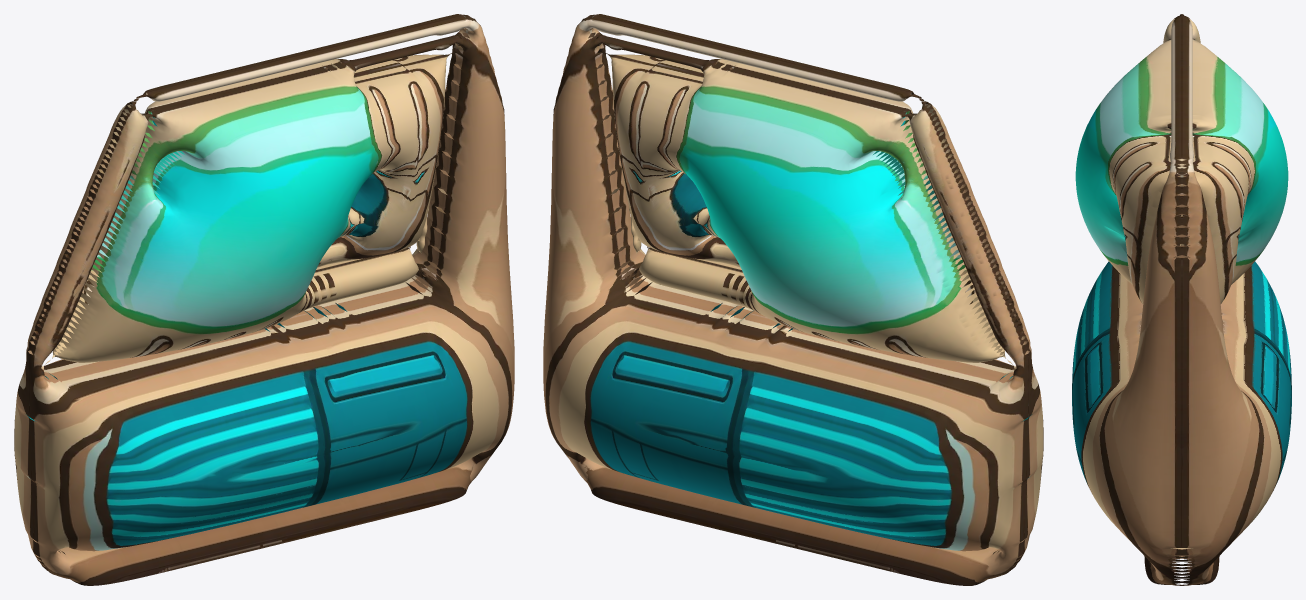
File: left_console.glb
3 views of the same model, side by side, from view 1: azimuth 30°, elevation 25°; view 2: azimuth 150°, elevation 25°; view 3: azimuth 270°, elevation 25° (orthographic). The views are drawn at different scales.
Visible parts, largest first — view 1: left_console; view 2: left_console; view 3: left_console.
Part boxes in pixels (x1,y1,x2,y2): left_console: [14, 14, 514, 585]; left_console: [543, 14, 1043, 585]; left_console: [1072, 14, 1291, 585].
Bounding box in the file's own units: 0.9891 × 0.9398 × 0.4355.
Materials: 1 (1 with a texture image).
